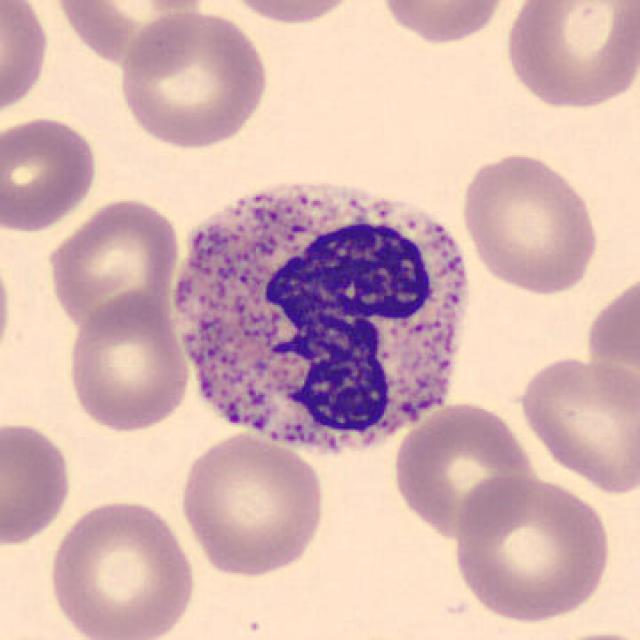Neutrophil: (162, 164, 484, 476)
RBC: (448, 471, 615, 624), (176, 430, 329, 580), (116, 7, 272, 152), (43, 495, 199, 640), (391, 397, 539, 543), (457, 148, 603, 296), (45, 194, 183, 335), (64, 291, 194, 434), (514, 352, 638, 496), (500, 0, 638, 113), (0, 112, 101, 234), (50, 0, 210, 69), (0, 418, 75, 550), (586, 277, 640, 440), (0, 0, 53, 121), (375, 0, 514, 46), (217, 0, 364, 28), (0, 240, 14, 379), (537, 626, 640, 640)
